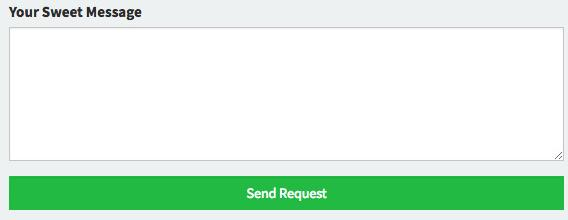button: (6, 174, 565, 212)
field: (7, 25, 564, 163)
field_with_label: (6, 5, 567, 164)
